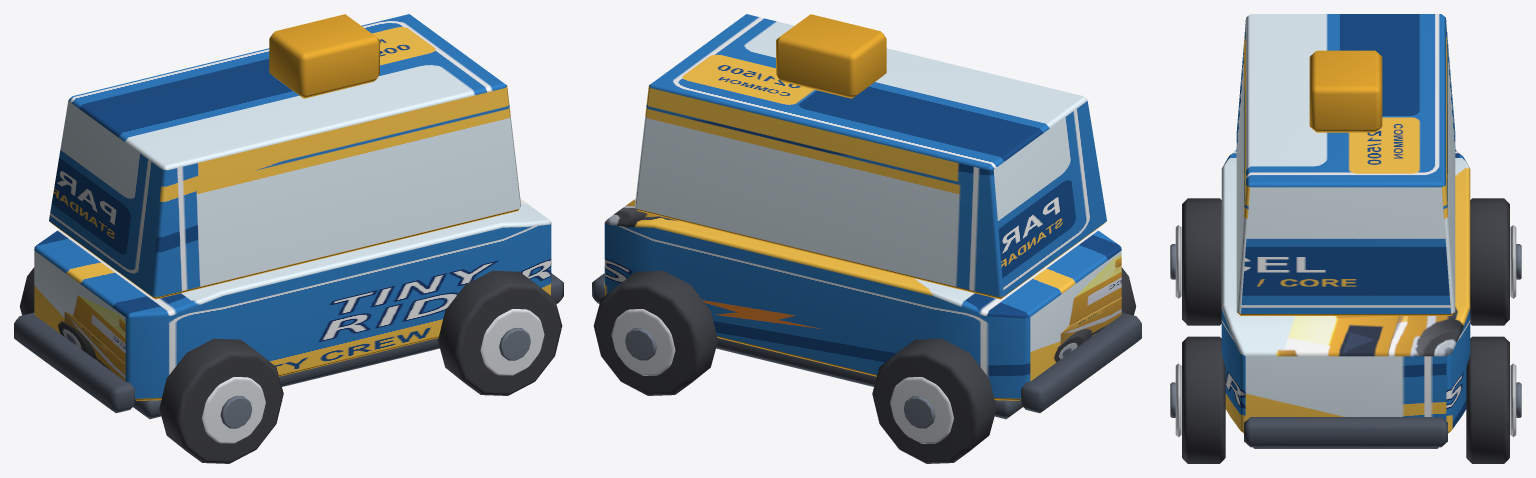
3 renders of one model, left to right at view 1: azimuth 30°, elevation 25°; view 2: azimuth 150°, elevation 25°; view 3: azimuth 270°, elevation 25°, orthographic.
Visible parts, largest first — view 1: CC-03_cabin, CC-03_connected_shell, Tire, Tire.002, roof sign, front bumper, Rim.002, Rim, underbody, Hub.002, Hub; view 2: CC-03_cabin, CC-03_connected_shell, Tire.001, Tire.003, roof sign, front bumper, Rim.003, Rim.001, underbody, Hub.003, Hub.001; view 3: CC-03_cabin, CC-03_connected_shell, rear bumper, roof sign, Tire.002, Tire.003, Tire, Tire.001, Rim, Rim.001, Rim.002, Rim.003 (+1 smaller).
Boxes of the visible parts, left/top/right/bottom form: CC-03_cabin: left=49, top=14, right=520, bottom=299; CC-03_connected_shell: left=34, top=199, right=551, bottom=400; Tire: left=159, top=338, right=283, bottom=463; Tire.002: left=438, top=270, right=562, bottom=395; roof sign: left=269, top=14, right=379, bottom=98; front bumper: left=14, top=312, right=135, bottom=413; Rim.002: left=480, top=309, right=544, bottom=375; Rim: left=202, top=377, right=265, bottom=443; underbody: left=133, top=338, right=439, bottom=419; Hub.002: left=499, top=328, right=530, bottom=360; Hub: left=220, top=395, right=251, bottom=428; CC-03_cabin: left=635, top=14, right=1106, bottom=299; CC-03_connected_shell: left=604, top=199, right=1121, bottom=400; Tire.001: left=872, top=338, right=996, bottom=463; Tire.003: left=593, top=270, right=717, bottom=395; roof sign: left=776, top=14, right=886, bottom=98; front bumper: left=1020, top=312, right=1141, bottom=413; Rim.003: left=611, top=309, right=675, bottom=375; Rim.001: left=890, top=377, right=953, bottom=443; underbody: left=716, top=338, right=1022, bottom=419; Hub.003: left=625, top=328, right=656, bottom=360; Hub.001: left=904, top=395, right=935, bottom=428; CC-03_cabin: left=1236, top=14, right=1455, bottom=315; CC-03_connected_shell: left=1221, top=150, right=1470, bottom=433; rear bumper: left=1244, top=417, right=1447, bottom=447; roof sign: left=1309, top=50, right=1382, bottom=132; Tire.002: left=1182, top=336, right=1225, bottom=463; Tire.003: left=1466, top=336, right=1509, bottom=463; Tire: left=1182, top=198, right=1221, bottom=325; Tire.001: left=1470, top=198, right=1509, bottom=325; Rim: left=1175, top=225, right=1181, bottom=298; Rim.001: left=1510, top=225, right=1516, bottom=298; Rim.002: left=1175, top=363, right=1181, bottom=437; Rim.003: left=1510, top=363, right=1516, bottom=437.
Size of the model in its own units: 318 by 222 by 209.
